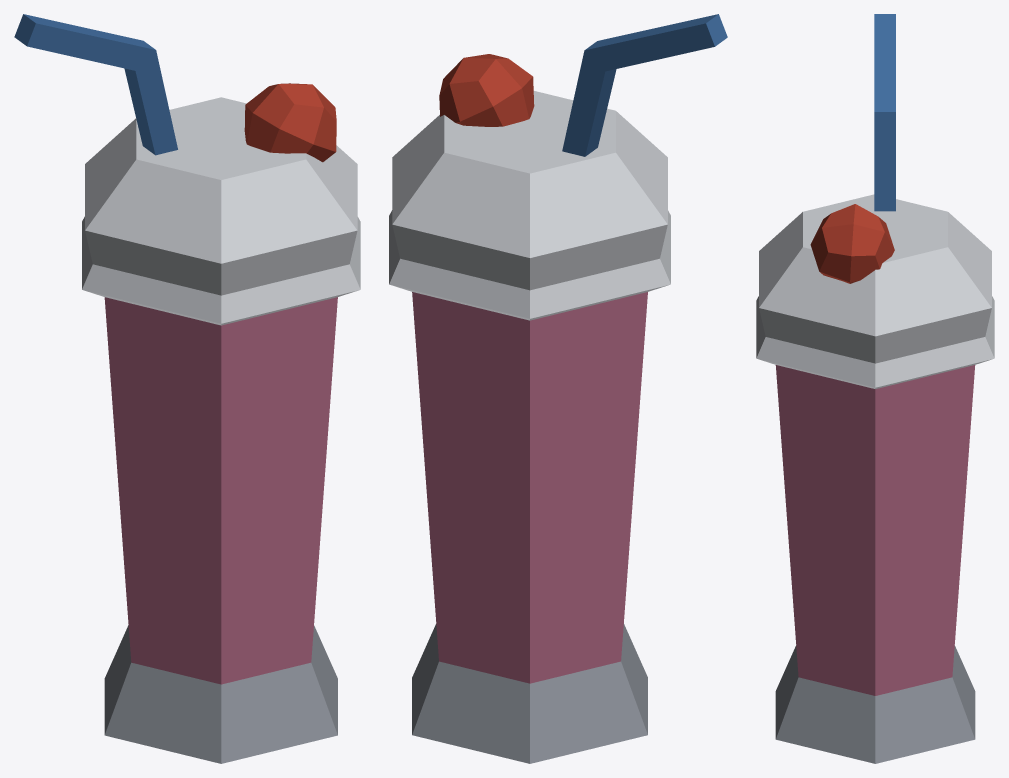
The model's file is SM_Prop_Sign_Milkshake_01.fbx.
3 renders of one model, left to right at view 1: azimuth 30°, elevation 25°; view 2: azimuth 150°, elevation 25°; view 3: azimuth 270°, elevation 25°, orthographic. The views are drawn at different scales.
Visible parts, largest first — view 1: SM_Prop_Sign_Milkshake_01; view 2: SM_Prop_Sign_Milkshake_01; view 3: SM_Prop_Sign_Milkshake_01.
Boxes of the visible parts, x1=… form: SM_Prop_Sign_Milkshake_01: x1=14, y1=14, x2=360, y2=763; SM_Prop_Sign_Milkshake_01: x1=389, y1=14, x2=727, y2=763; SM_Prop_Sign_Milkshake_01: x1=756, y1=14, x2=994, y2=763.
Bounding box in the file's own units: 71.89 × 150 × 51.92.
